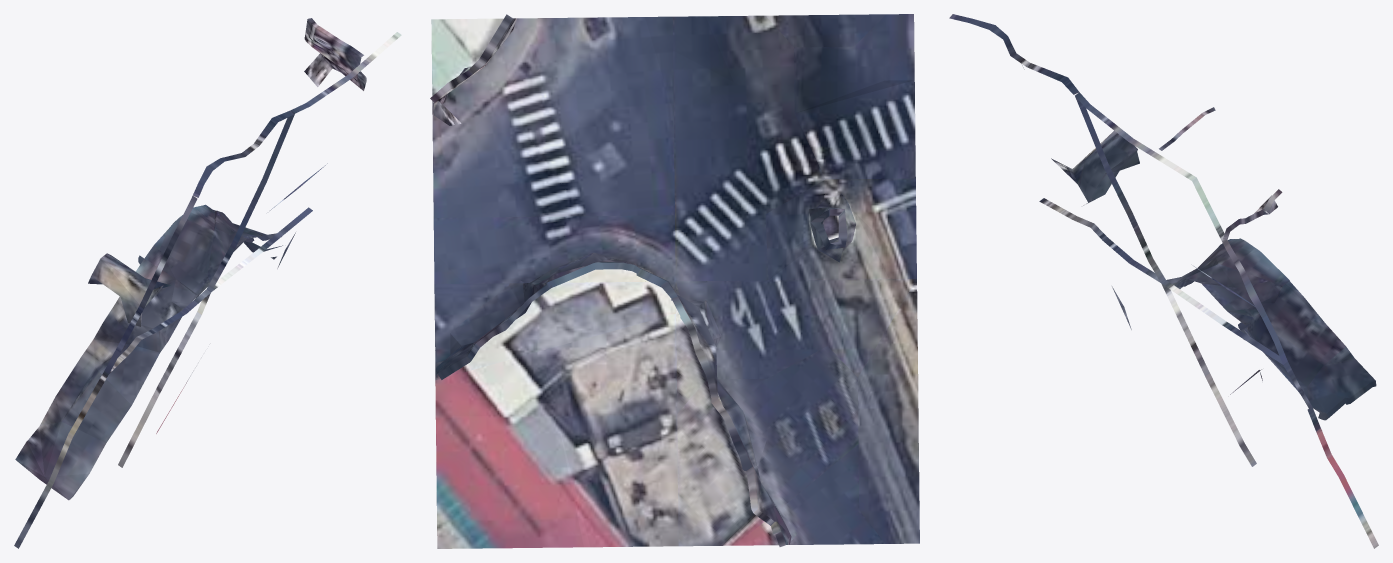
3 views of the same model, side by side, from view 1: azimuth 30°, elevation 25°; view 2: azimuth 150°, elevation 25°; view 3: azimuth 270°, elevation 25° (orthographic). The views are drawn at different scales.
Bounding box in the file's own units: 38.11 × 37.43 × 32.44.
Materials: 1 (1 with a texture image).
